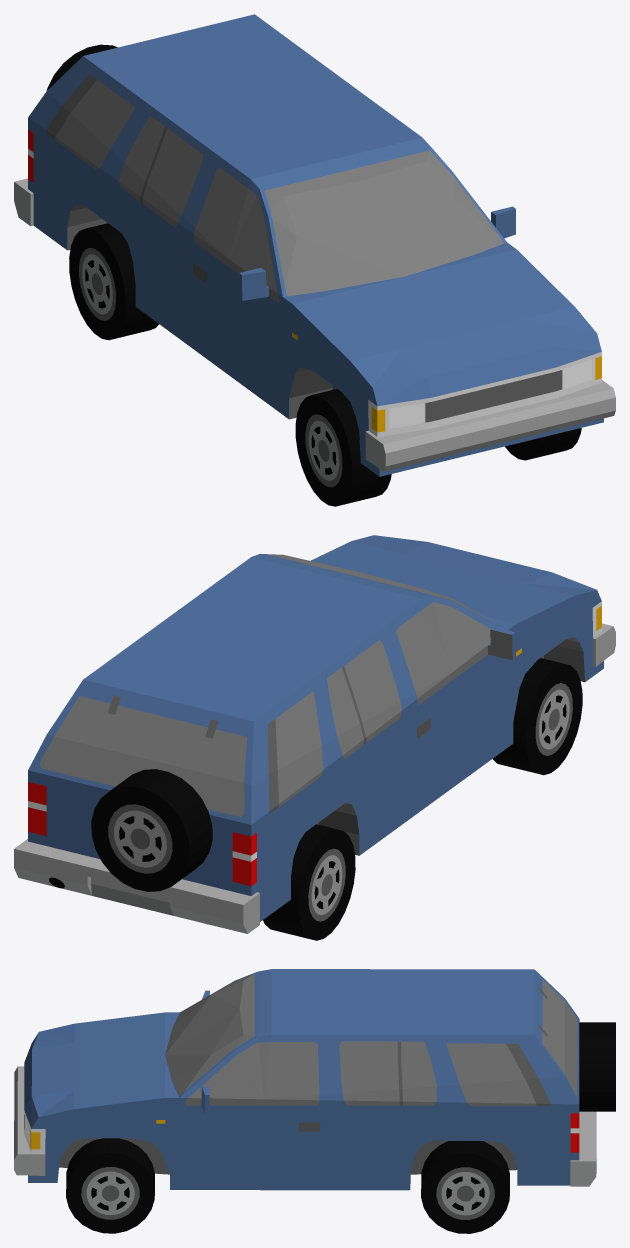
The model's file is nissan-terrano.glb.
3 renders of one model, top to bottom at view 1: azimuth 30°, elevation 25°; view 2: azimuth 150°, elevation 25°; view 3: azimuth 270°, elevation 25°, orthographic. The views are drawn at different scales.
Parts seen in each view (by area): view 1: Mesh1 Component_1_1 Model, CG_wheel_3, CG_wheel_0, CG_wheel_2; view 2: Mesh1 Component_1_1 Model, CG_wheel_3, CG_wheel_0; view 3: Mesh1 Component_1_1 Model, CG_wheel_2, CG_wheel_1.
Part boxes in pixels (x1,y1,x2,y2): Mesh1 Component_1_1 Model: (14,14,615,476); CG_wheel_3: (295,389,391,506); CG_wheel_0: (69,223,158,340); CG_wheel_2: (505,428,581,460); Mesh1 Component_1_1 Model: (14,535,615,933); CG_wheel_3: (493,658,582,775); CG_wheel_0: (263,824,355,940); Mesh1 Component_1_1 Model: (14,969,615,1190); CG_wheel_2: (66,1138,154,1233); CG_wheel_1: (421,1141,509,1233).
Bounding box in the file's own units: 1.79 × 1.51 × 4.37.
